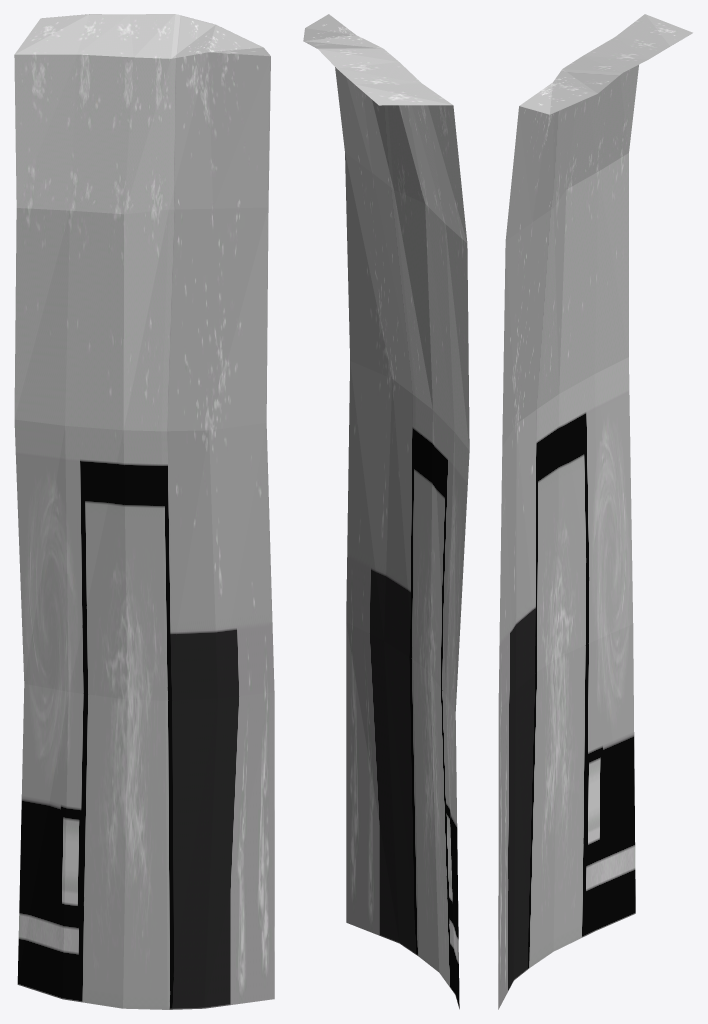
The model's file is object_waterfall 1.fbx.
3 renders of one model, left to right at view 1: azimuth 30°, elevation 25°; view 2: azimuth 150°, elevation 25°; view 3: azimuth 270°, elevation 25°, orthographic. The views are drawn at different scales.
Visible parts, largest first — view 1: obj0.118; view 2: obj0.118; view 3: obj0.118.
Part boxes in pixels (box(x1,y1,x2,y2)): obj0.118: box(14, 14, 274, 1009); obj0.118: box(303, 14, 469, 1009); obj0.118: box(498, 14, 692, 1009).
Bounding box in the file's own units: 10.92 × 47.38 × 9.09.
